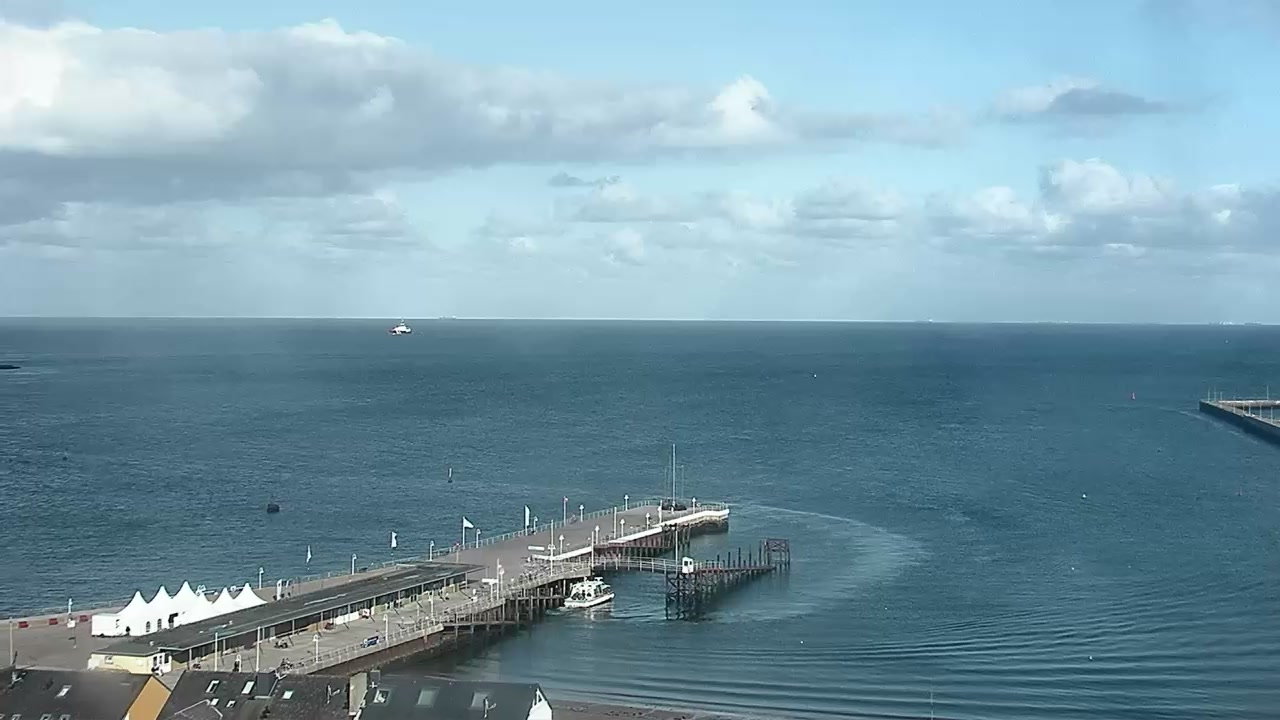human: (279, 655, 286, 669), (284, 656, 291, 668), (232, 660, 239, 672)
sea: (562, 576, 616, 610), (387, 315, 413, 336), (436, 313, 456, 320), (1240, 319, 1262, 325), (1205, 321, 1231, 326)
